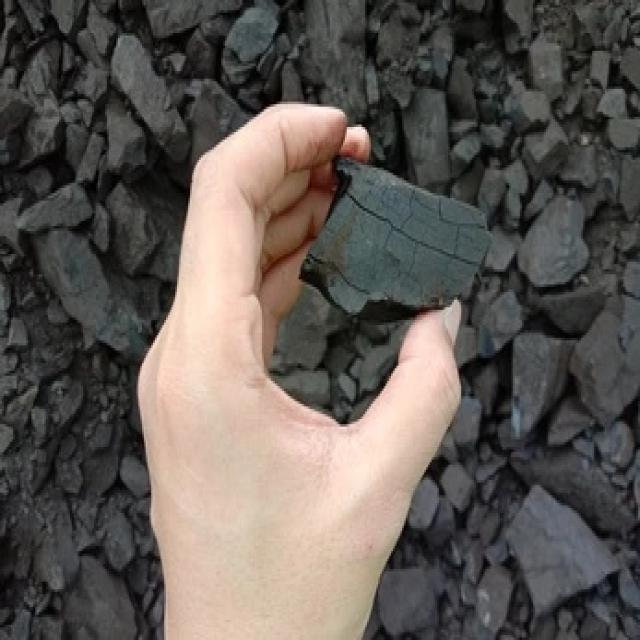Sedimentary: (302, 147, 503, 356)
